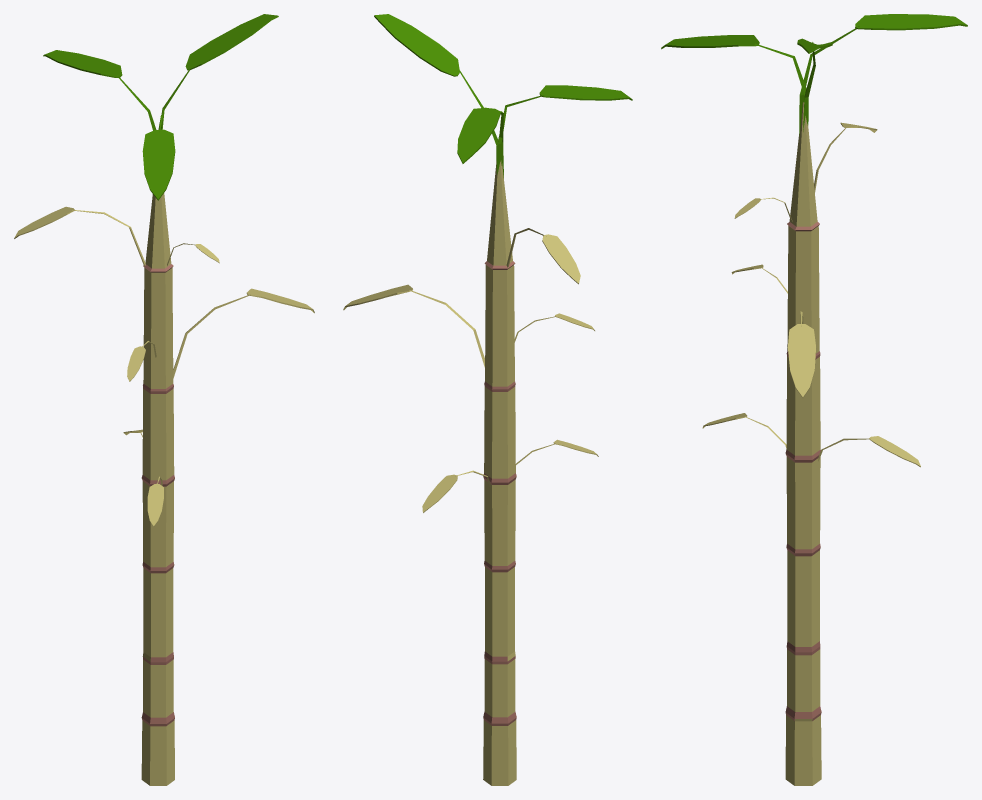
File: Misc_SugarCane.fbx
3 renders of one model, left to right at view 1: azimuth 30°, elevation 25°; view 2: azimuth 150°, elevation 25°; view 3: azimuth 270°, elevation 25°, orthographic. The views are drawn at different scales.
Visible parts, largest first — view 1: Misc_SugarCane; view 2: Misc_SugarCane; view 3: Misc_SugarCane.
Part boxes in pixels (x1,y1,x2,y2): Misc_SugarCane: [14, 14, 314, 785]; Misc_SugarCane: [343, 14, 632, 785]; Misc_SugarCane: [661, 14, 967, 785].
Size of the model in its own units: 116 by 304 by 107.
